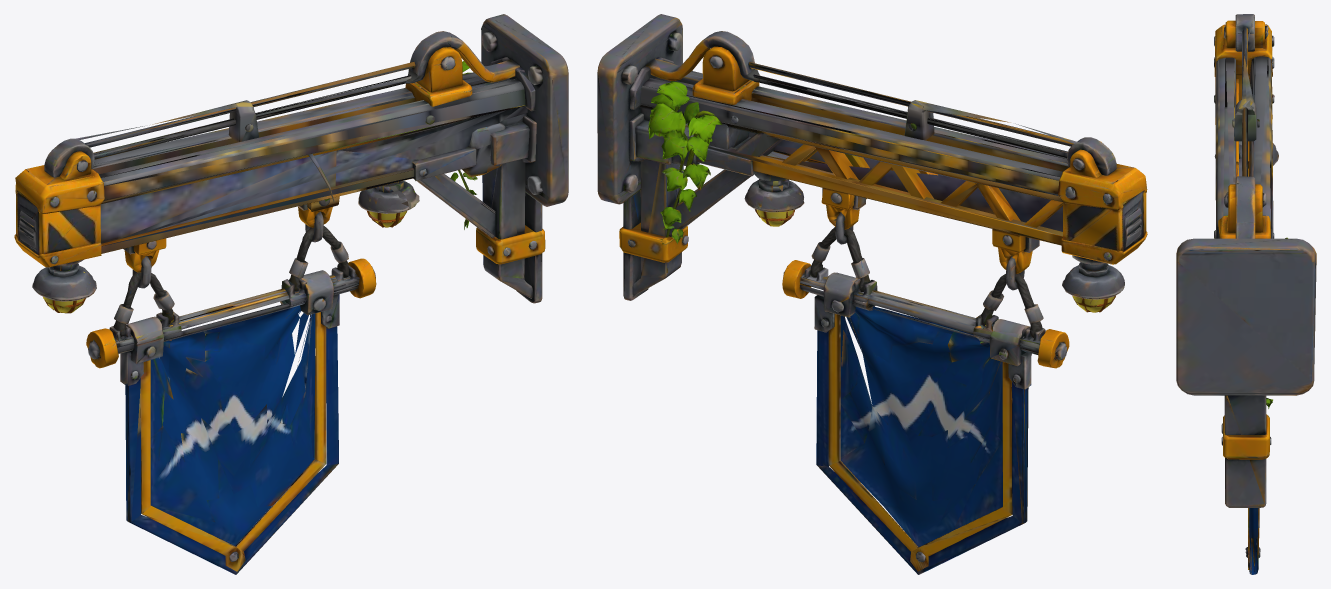
Rendered from banner_crane_arm.glb.
The picture shows the model from 3 angles, left to right: view 1: azimuth 30°, elevation 25°; view 2: azimuth 150°, elevation 25°; view 3: azimuth 270°, elevation 25°; orthographic projection.
Size of what is drawn, in the model's own units: 1.08 by 1 by 0.2573.
1 material, 1 textured.
